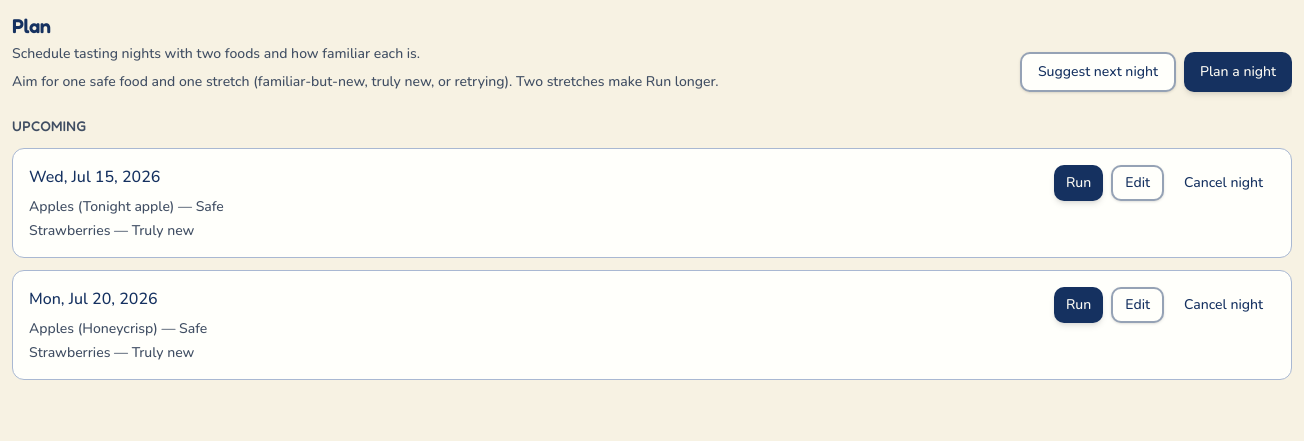
Test: PlanPage › blocks early-run when today already has a planned night
The image size is (1304, 441).
Check: the list item "Apples (Tonight apple) — Safe" is shown, box [29,197,224,217]
Check: the list item "Apples (Honeycrisp) — Safe" is shown, box [29,319,207,339]
What coordinates should you click on to do the following:
click the button "Run" in the row of "(Honeycrisp)"
I would click on:
 (1079, 305)
Its box is [1054,287,1103,323].
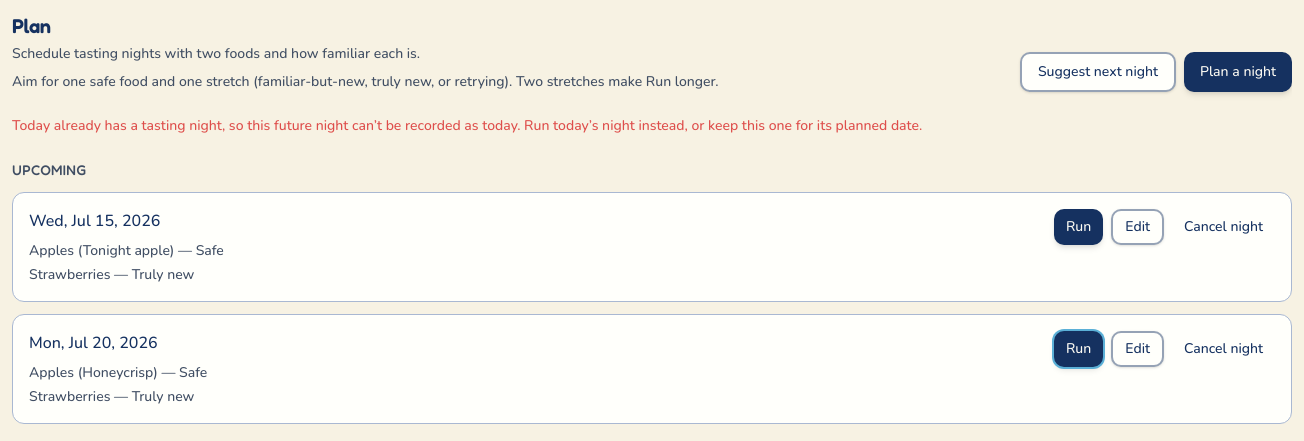
Check: the message shows "Today already has a tasting night", box [12,116,922,135]
